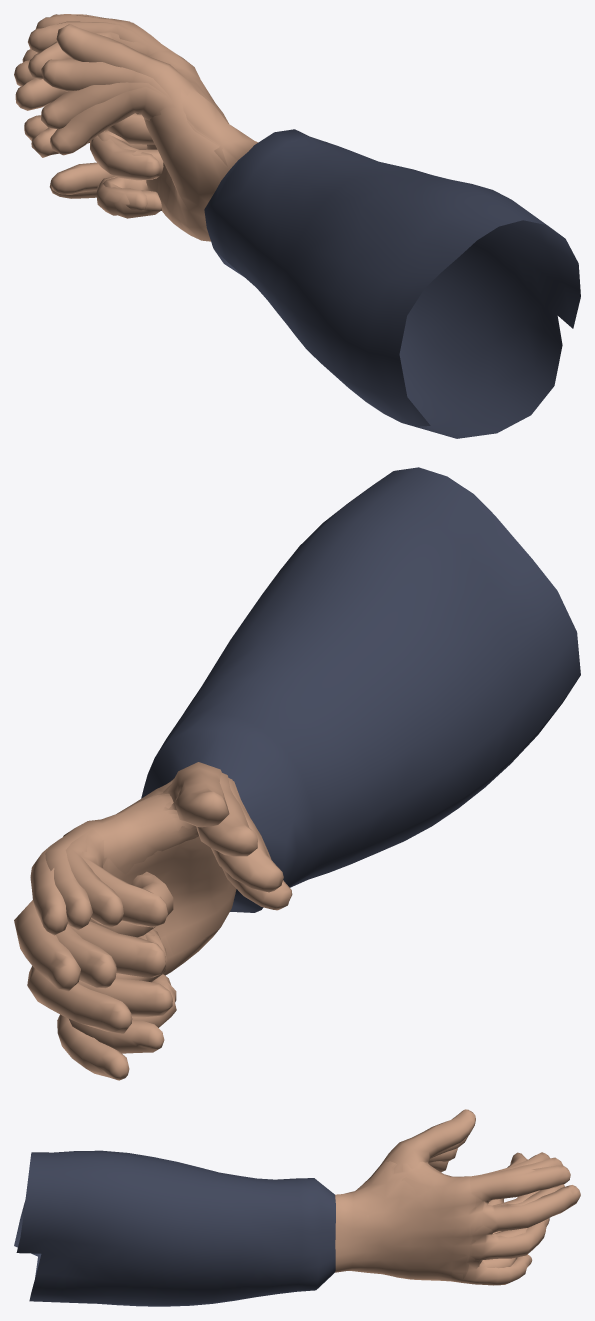
Rendered from hands.glb.
3 views of the same model, one above another, from view 1: azimuth 30°, elevation 25°; view 2: azimuth 150°, elevation 25°; view 3: azimuth 270°, elevation 25° (orthographic). The views are drawn at different scales.
Parts seen in each view (by area): view 1: Hand_Point_Mesh, Hand_Cigarette_Mesh, Hand_Relaxed, Hand_Glass_Mesh; view 2: Hand_Relaxed, Hand_Cigarette_Mesh, Hand_Glass_Mesh, Hand_Point_Mesh; view 3: Hand_Glass_Mesh, Hand_Point_Mesh, Hand_Cigarette_Mesh, Hand_Relaxed.
Boxes of the visible parts, x1,y1,x2,y2 form: Hand_Point_Mesh: (50,14,579,432); Hand_Cigarette_Mesh: (22,15,578,438); Hand_Relaxed: (14,21,580,434); Hand_Glass_Mesh: (15,32,573,436); Hand_Relaxed: (27,468,569,1080); Hand_Cigarette_Mesh: (14,467,572,1027); Hand_Glass_Mesh: (63,474,580,1053); Hand_Point_Mesh: (30,468,580,1002); Hand_Glass_Mesh: (14,1136,540,1306); Hand_Point_Mesh: (23,1151,570,1306); Hand_Cigarette_Mesh: (16,1148,580,1306); Hand_Relaxed: (17,1109,564,1306).
Size of the model in its own units: 0.1507 by 0.1321 by 0.4351.
